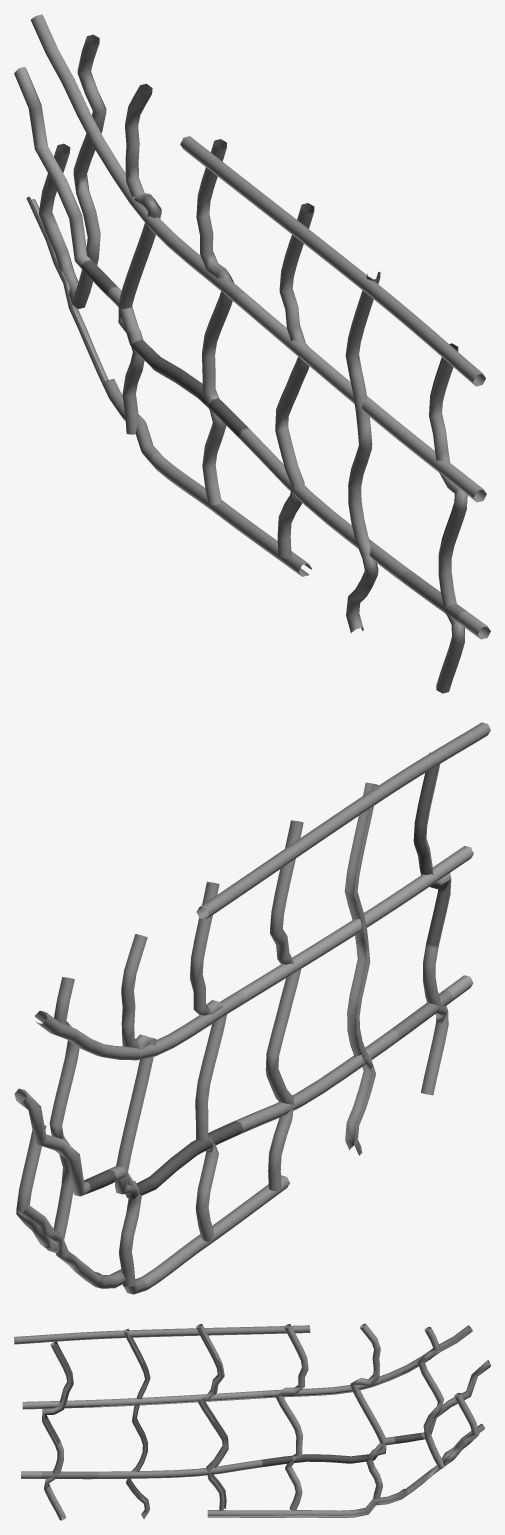
3 renders of one model, top to bottom at view 1: azimuth 30°, elevation 25°; view 2: azimuth 150°, elevation 25°; view 3: azimuth 270°, elevation 25°, orthographic. The views are drawn at different scales.
Size of the model in its own units: 0.094 by 0.9684 by 2.13.
